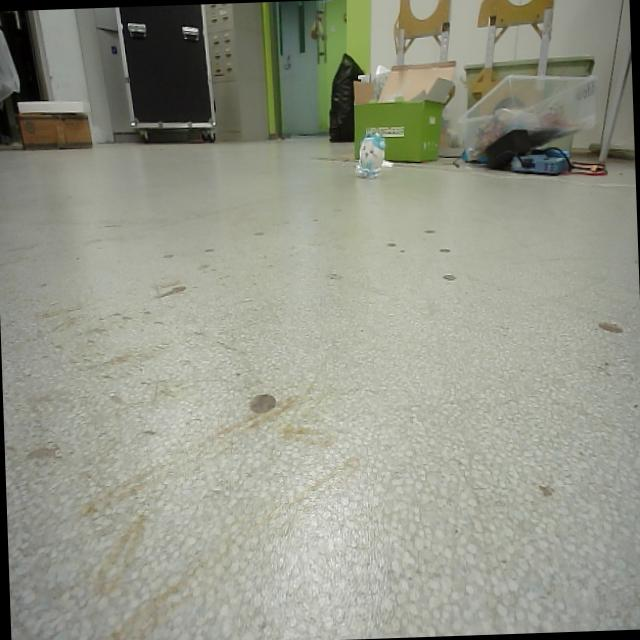xiaoba: (354, 130, 388, 180)
